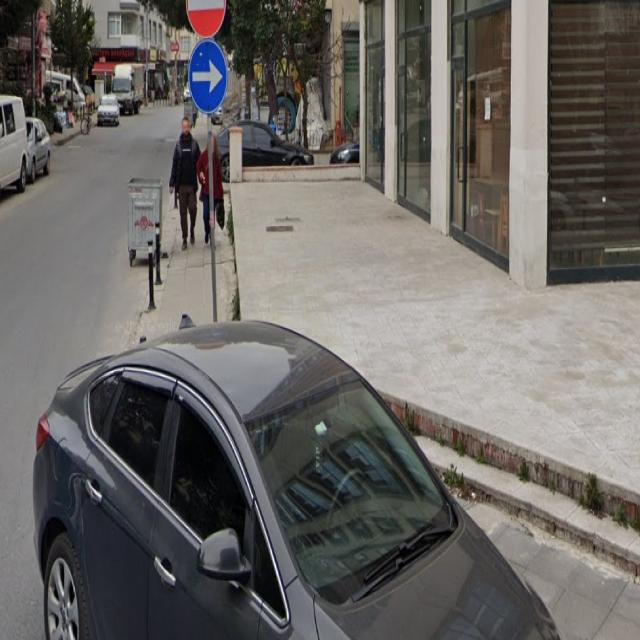Turn Right: (186, 44, 226, 115)
